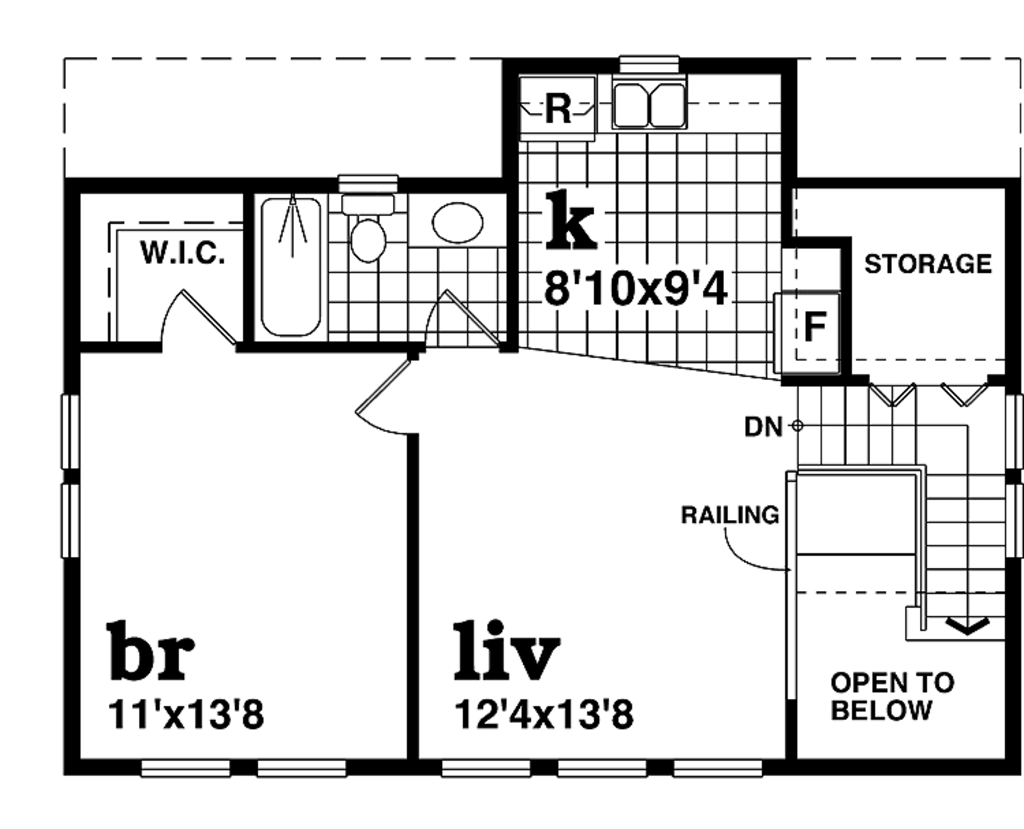door: (157, 289, 242, 352), (356, 355, 414, 434), (423, 291, 493, 350)
large_sink: (346, 192, 400, 270)
small_sink: (407, 189, 510, 247)
stairs: (806, 389, 1013, 642)
tub: (259, 192, 322, 344)
window: (554, 753, 654, 778), (261, 761, 351, 782), (443, 759, 533, 780), (145, 762, 231, 780), (61, 484, 81, 557), (64, 393, 82, 470), (1007, 393, 1024, 470), (1007, 483, 1024, 556)
